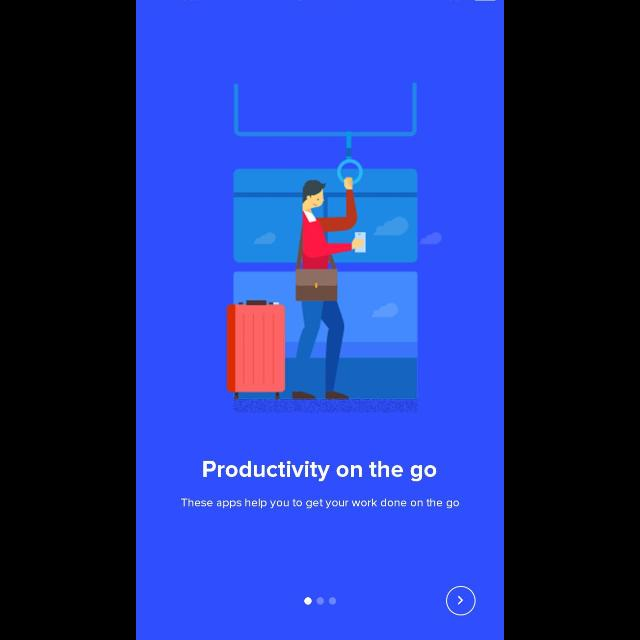icon: (446, 586, 476, 616)
image: (225, 83, 443, 413)
pageindicator: (304, 596, 336, 606)
text: (203, 460, 437, 482), (181, 498, 459, 510)
